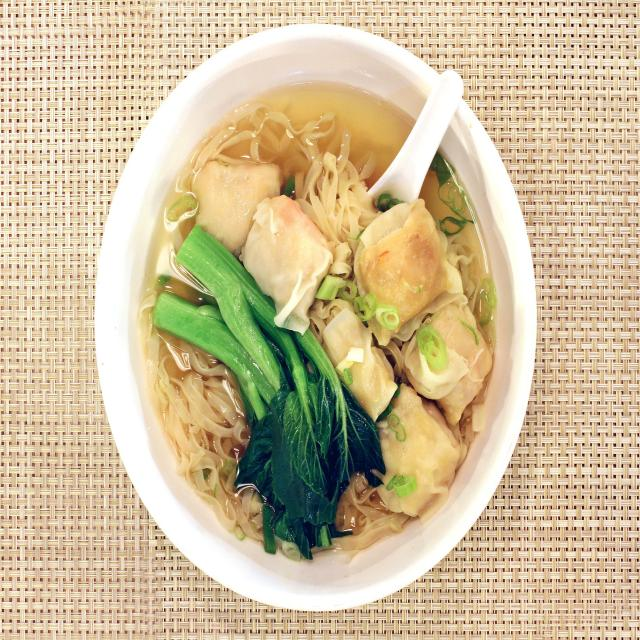Carbohydrate: (149, 99, 483, 528)
Noodle: (97, 26, 535, 613)
Protein: (188, 138, 475, 508)
Vegetable: (159, 214, 388, 546)
